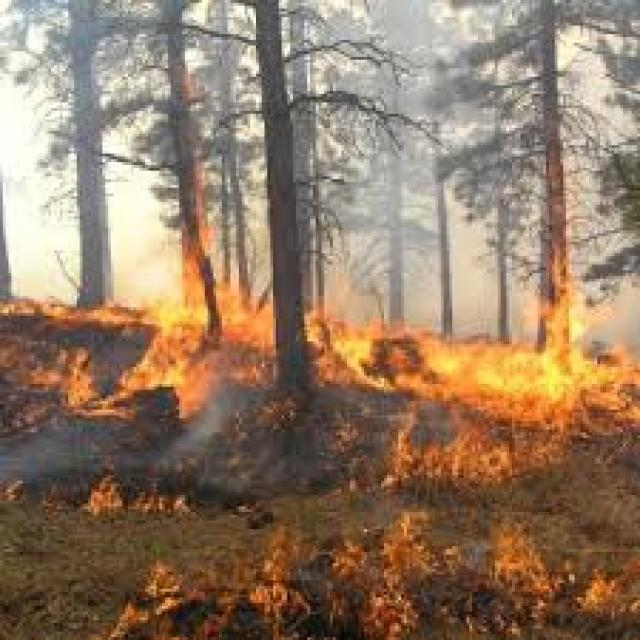Fire: (306, 288, 640, 486), (167, 531, 598, 635), (104, 246, 279, 396), (3, 291, 100, 424)
Smoke: (310, 21, 530, 270), (4, 6, 161, 228)
